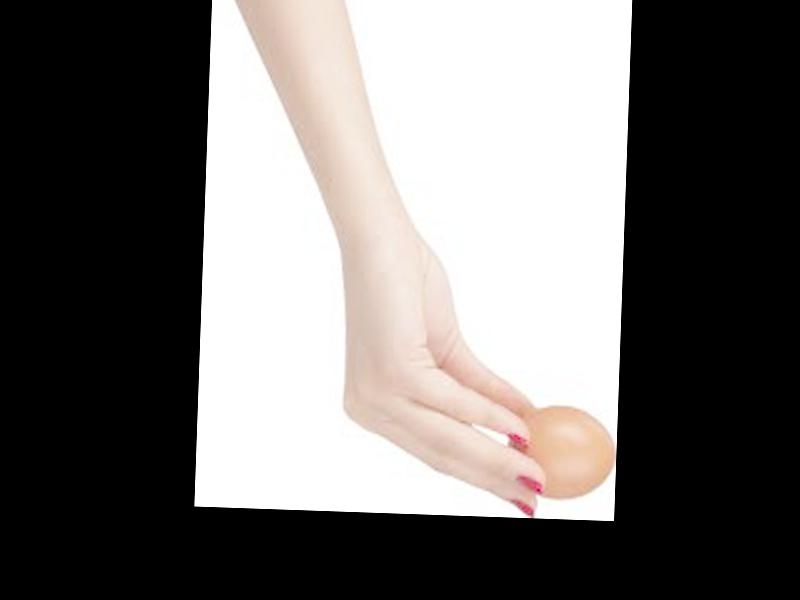Eggs: (509, 403, 615, 502)
